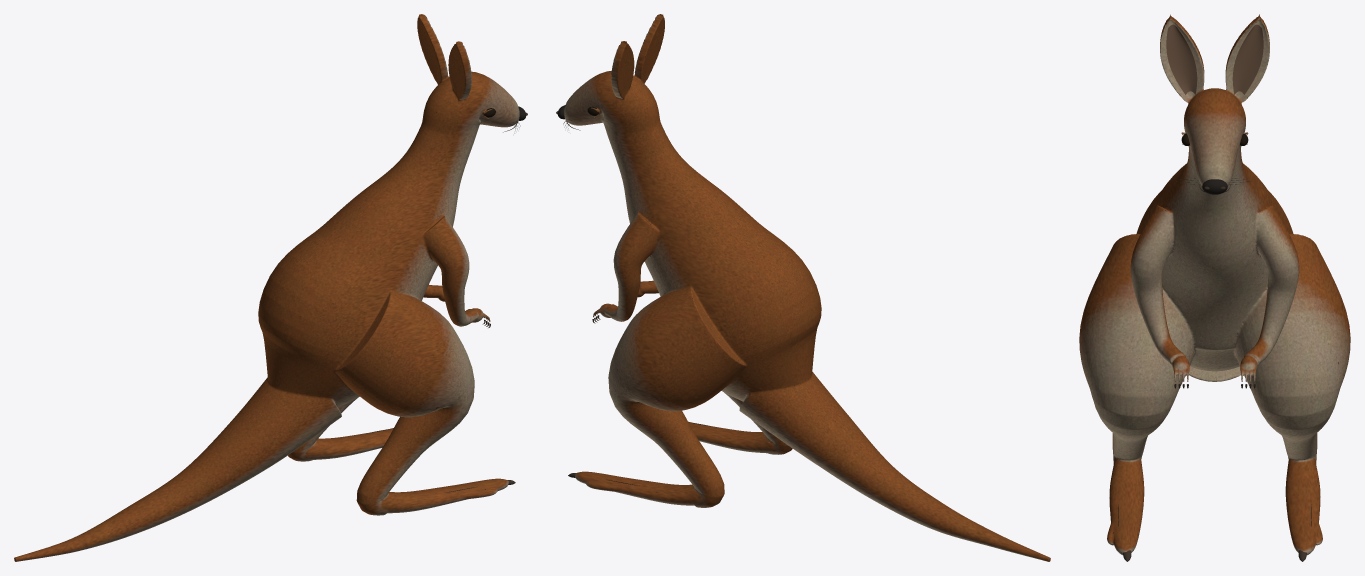
Rendered from red-kangaroo-experimental.glb.
3 renders of one model, left to right at view 1: azimuth 30°, elevation 25°; view 2: azimuth 150°, elevation 25°; view 3: azimuth 270°, elevation 25°, orthographic. The views are drawn at different scales.
Parts seen in each view (by area): view 1: Red kangaroo experimental; view 2: Red kangaroo experimental; view 3: Red kangaroo experimental.
Part boxes in pixels (left/top/right/bottom): Red kangaroo experimental: left=14, top=14, right=527, bottom=561; Red kangaroo experimental: left=556, top=14, right=1050, bottom=561; Red kangaroo experimental: left=1079, top=14, right=1350, bottom=561.
Bounding box in the file's own units: 2 × 1.67 × 0.7801.
Materials: 7 (1 with a texture image).
